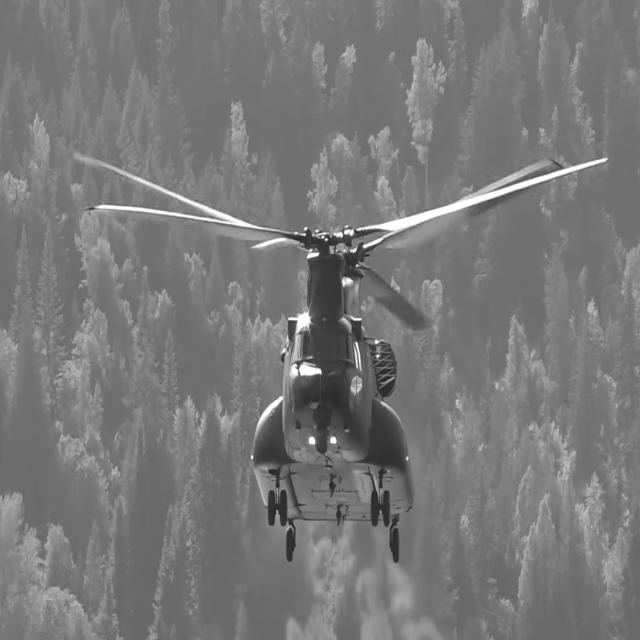Helicopter: (251, 161, 582, 563)
